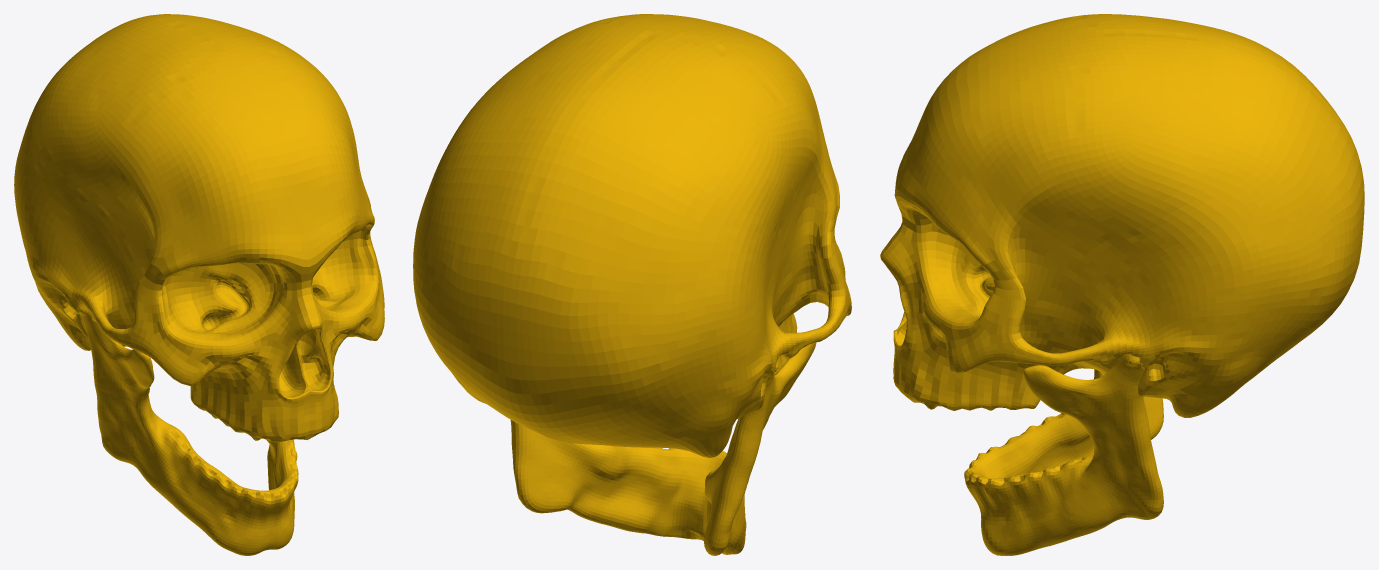
The model's file is InstantKillModel.fbx.
The picture shows the model from 3 angles, left to right: view 1: azimuth 30°, elevation 25°; view 2: azimuth 150°, elevation 25°; view 3: azimuth 270°, elevation 25°; orthographic projection. The views are drawn at different scales.
Visible parts, largest first — view 1: Upper_skull, Lower_skull; view 2: Upper_skull, Lower_skull; view 3: Upper_skull, Lower_skull.
Boxes of the visible parts, x1=… form: Upper_skull: x1=14, y1=14, x2=384, y2=442; Lower_skull: x1=77, y1=304, x2=298, y2=555; Upper_skull: x1=413, y1=14, x2=851, y2=457; Lower_skull: x1=510, y1=342, x2=816, y2=555; Upper_skull: x1=880, y1=14, x2=1364, y2=417; Lower_skull: x1=964, y1=354, x2=1163, y2=555.
Bounding box in the file's own units: 73.38 × 121 × 104.
